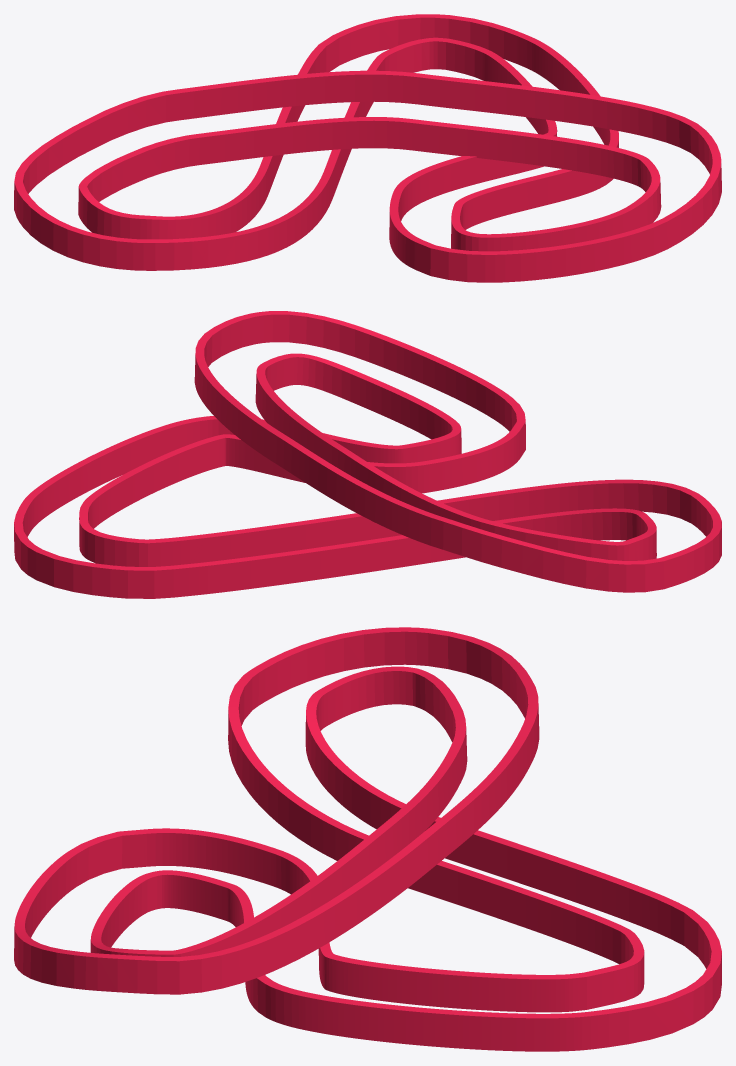
File: borders collision track1.fbx
3 renders of one model, top to bottom at view 1: azimuth 30°, elevation 25°; view 2: azimuth 150°, elevation 25°; view 3: azimuth 270°, elevation 25°, orthographic. The views are drawn at different scales.
Parts seen in each view (by area): view 1: Object001; view 2: Object001; view 3: Object001.
Boxes of the visible parts, left/top/right/bottom form: Object001: left=14, top=14, right=721, bottom=282; Object001: left=14, top=311, right=721, bottom=598; Object001: left=14, top=627, right=721, bottom=1051.
Bounding box in the file's own units: 8095 × 1201 × 6995.
